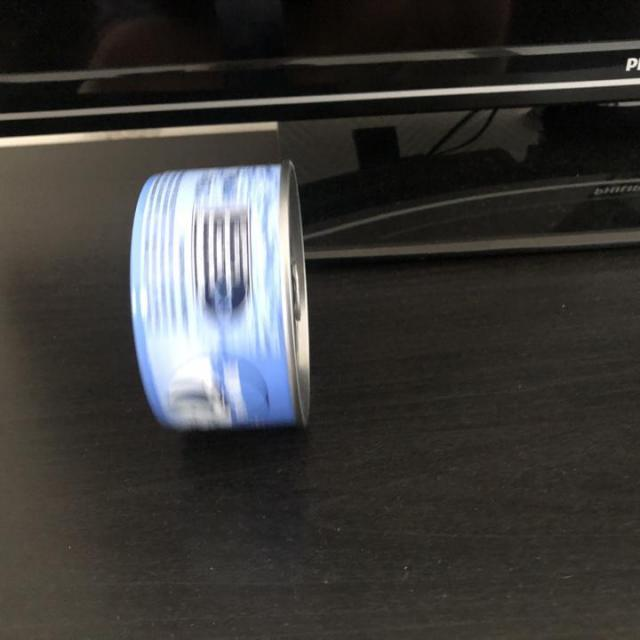recyclable: (125, 157, 318, 436)
